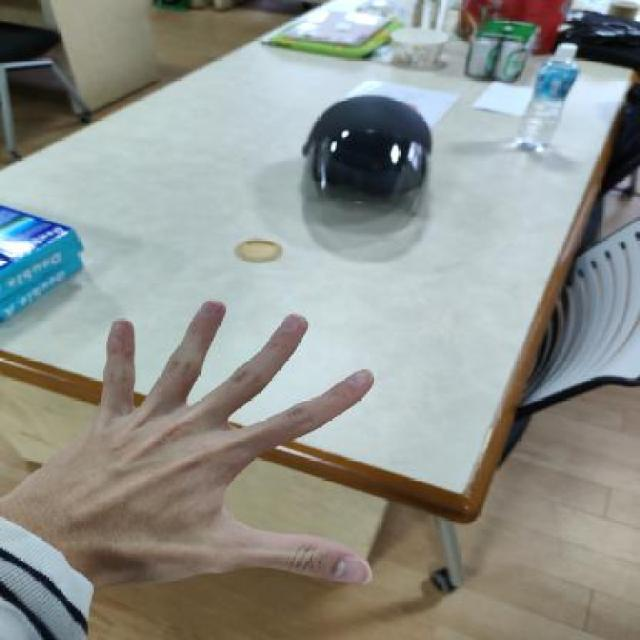bare_hand: (8, 283, 402, 612)
